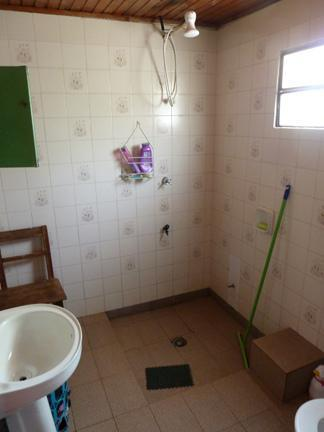Lavamanos: (0, 292, 83, 431)
